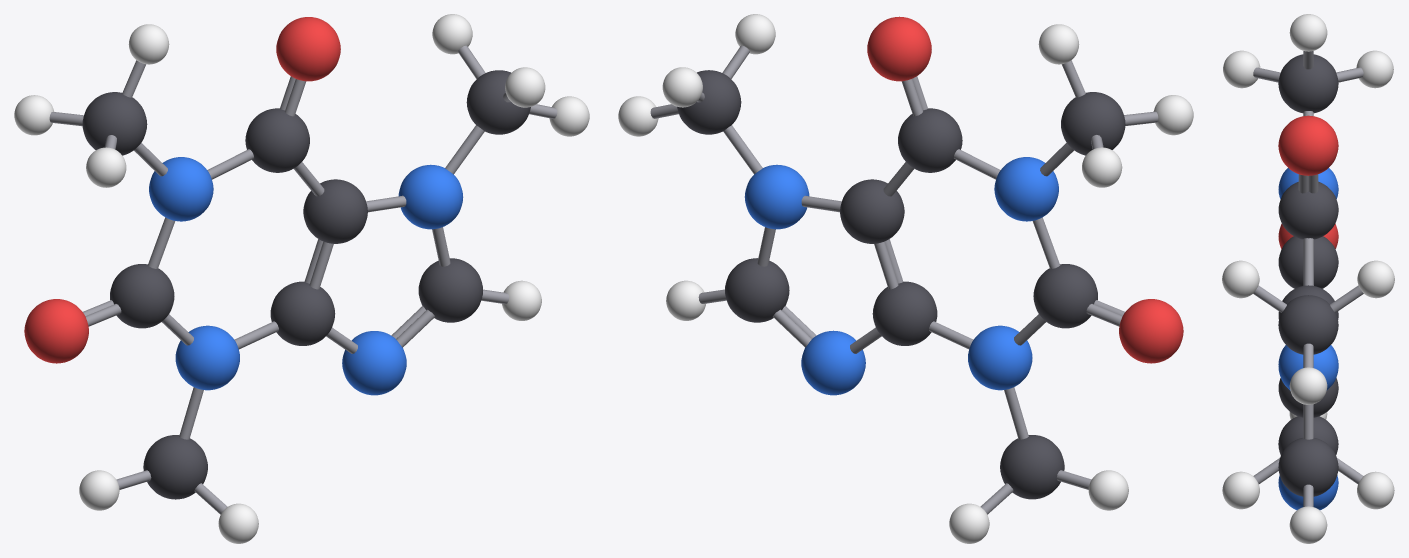
3 views of the same model, side by side, from view 1: azimuth 30°, elevation 25°; view 2: azimuth 150°, elevation 25°; view 3: azimuth 270°, elevation 25° (orthographic). The views are drawn at different scales.
Bounding box in the file's own units: 7.98 × 6.86 × 2.3.
